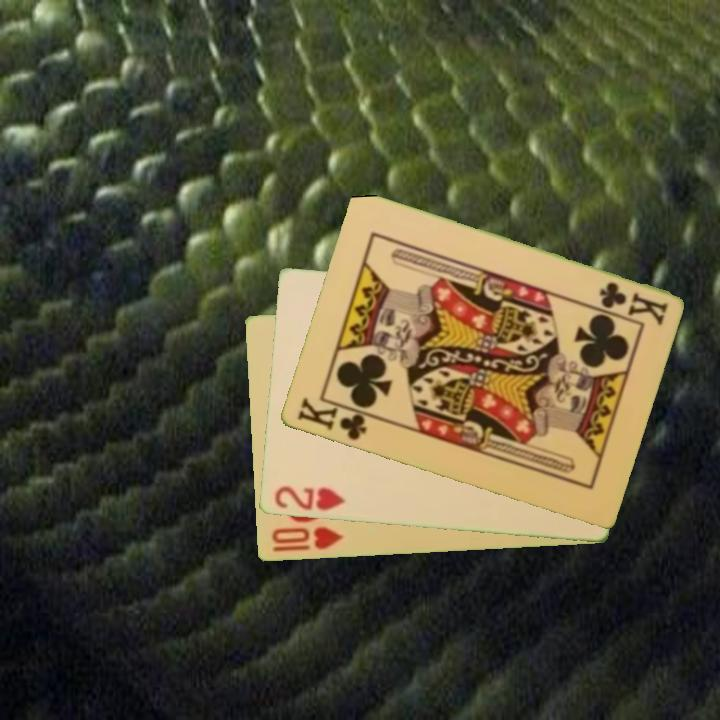10h: (268, 523, 347, 555)
2h: (270, 483, 348, 514)
Kc: (293, 394, 377, 444), (595, 278, 671, 327)
